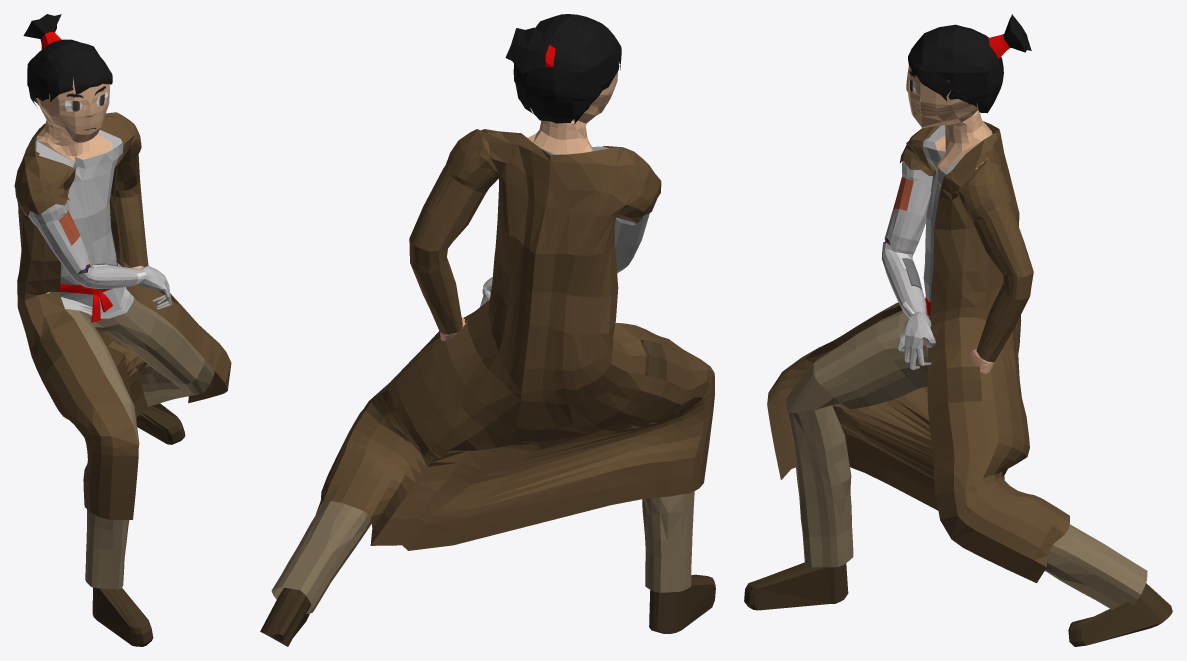
File: One_RL_000007.obj
The picture shows the model from 3 angles, left to right: view 1: azimuth 30°, elevation 25°; view 2: azimuth 150°, elevation 25°; view 3: azimuth 270°, elevation 25°; orthographic projection. The views are drawn at different scales.
Visible parts, largest first — view 1: Hair_Cube.004; view 2: Hair_Cube.004; view 3: Hair_Cube.004.
Part boxes in pixels (box(x1,y1,x2,y2)): Hair_Cube.004: box(14, 14, 231, 646); Hair_Cube.004: box(260, 14, 715, 646); Hair_Cube.004: box(744, 14, 1172, 646).
Bounding box in the file's own units: 1.55 × 3.52 × 2.27.
